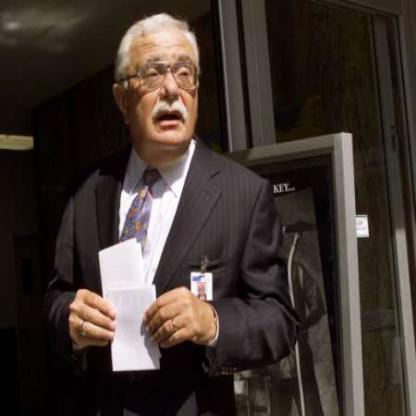face: (125, 17, 205, 154)
